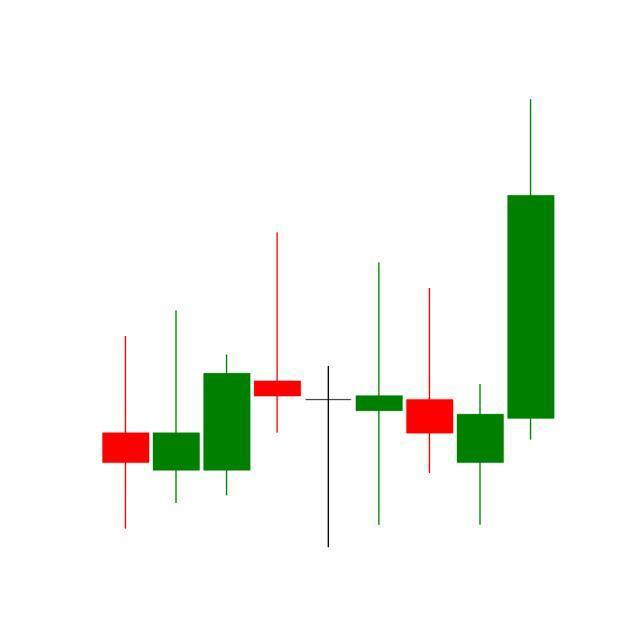Hikkake Pattern: (252, 229, 506, 549)
